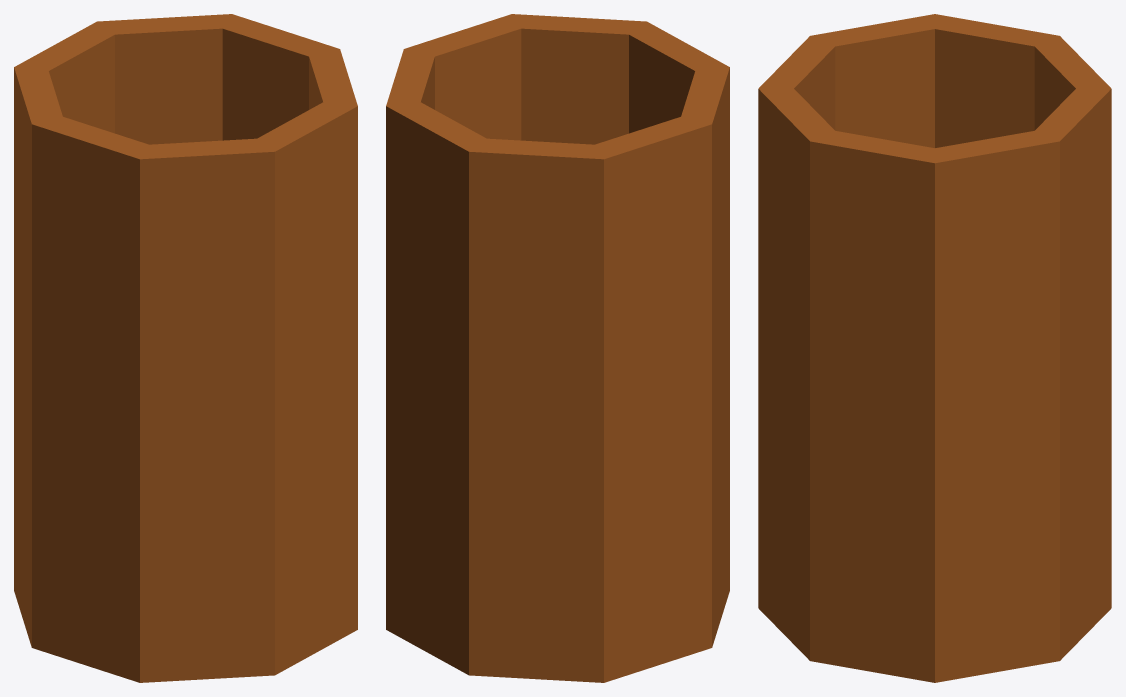
The model's file is SM_cup_02.FBX.
3 renders of one model, left to right at view 1: azimuth 30°, elevation 25°; view 2: azimuth 150°, elevation 25°; view 3: azimuth 270°, elevation 25°, orthographic.
Visible parts, largest first — view 1: Object101; view 2: Object101; view 3: Object101.
Part boxes in pixels (left/top/right/bottom): Object101: left=14, top=14, right=357, bottom=682; Object101: left=386, top=14, right=729, bottom=682; Object101: left=758, top=14, right=1111, bottom=682.
Bounding box in the file's own units: 15.86 × 25.75 × 15.86.
